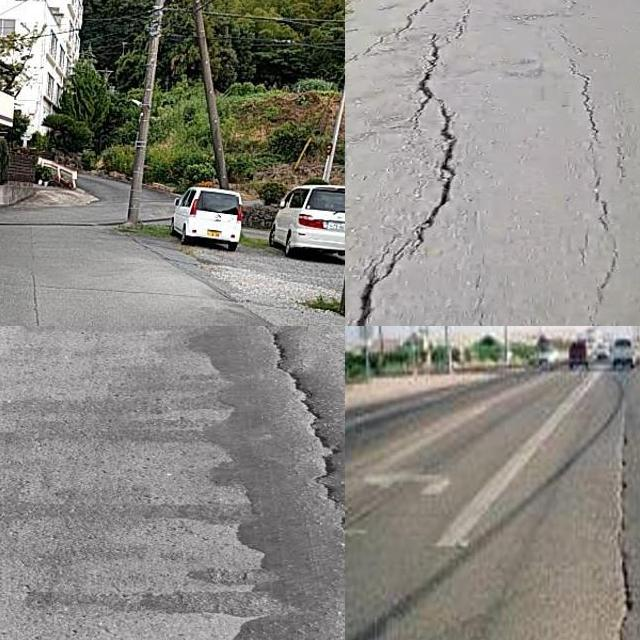Memanjang: (345, 18, 470, 326), (552, 38, 638, 326), (258, 326, 345, 560), (606, 378, 640, 640), (23, 224, 53, 326)
